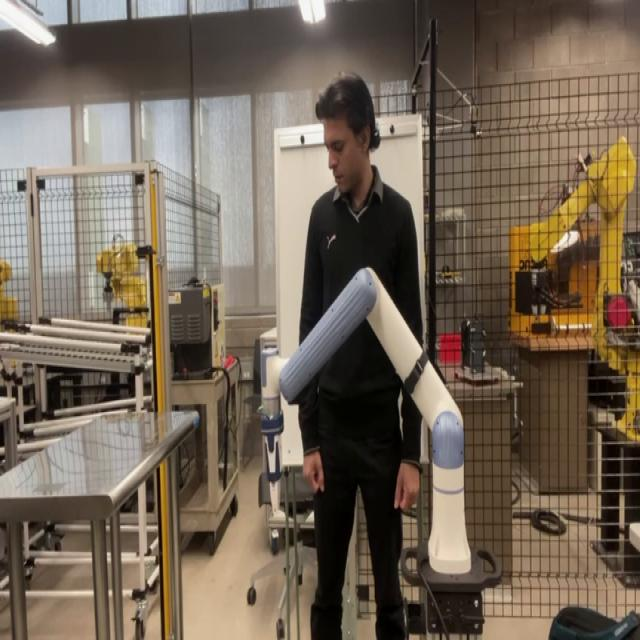robot: (244, 248, 482, 587)
